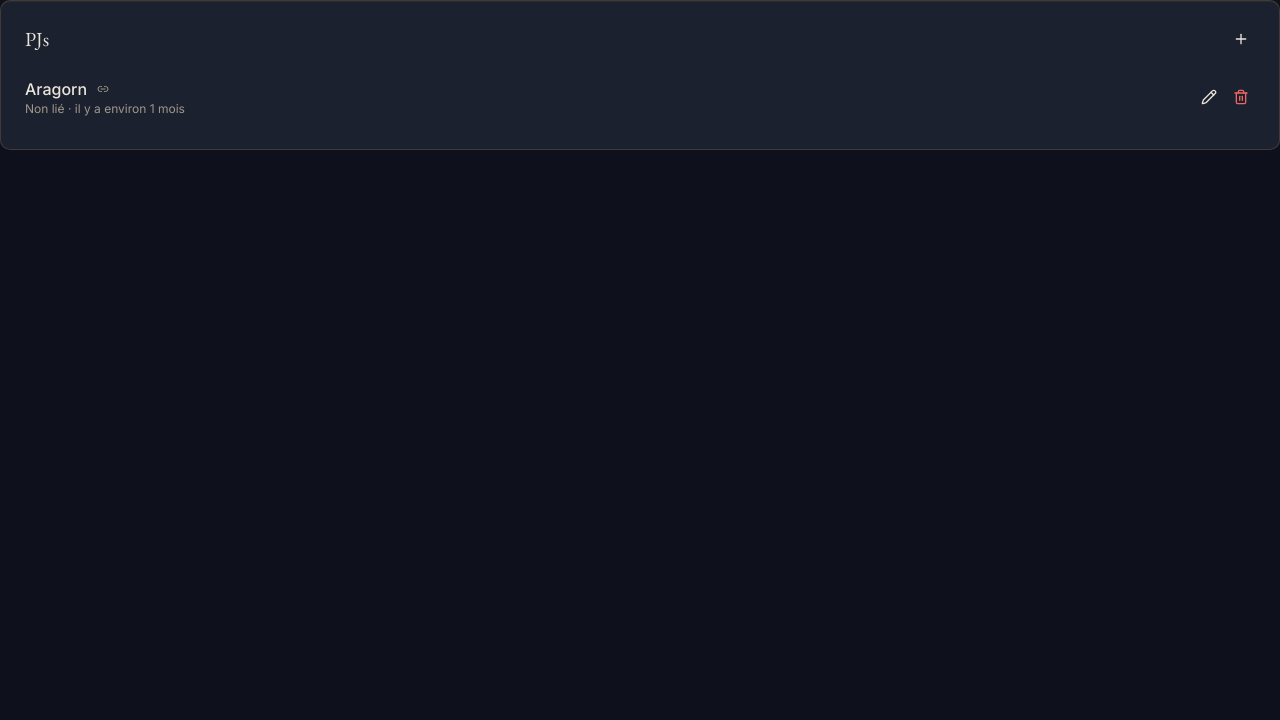
it: <CampaignPjsCard> › clicking the header Ajouter button opens the PjForm dialog
Expected: the text "Aragorn" is shown, left=25, top=77, right=87, bottom=101
Click the button named "Ajouter un PJ" at (1241, 39), box left=1227, top=25, right=1255, bottom=53
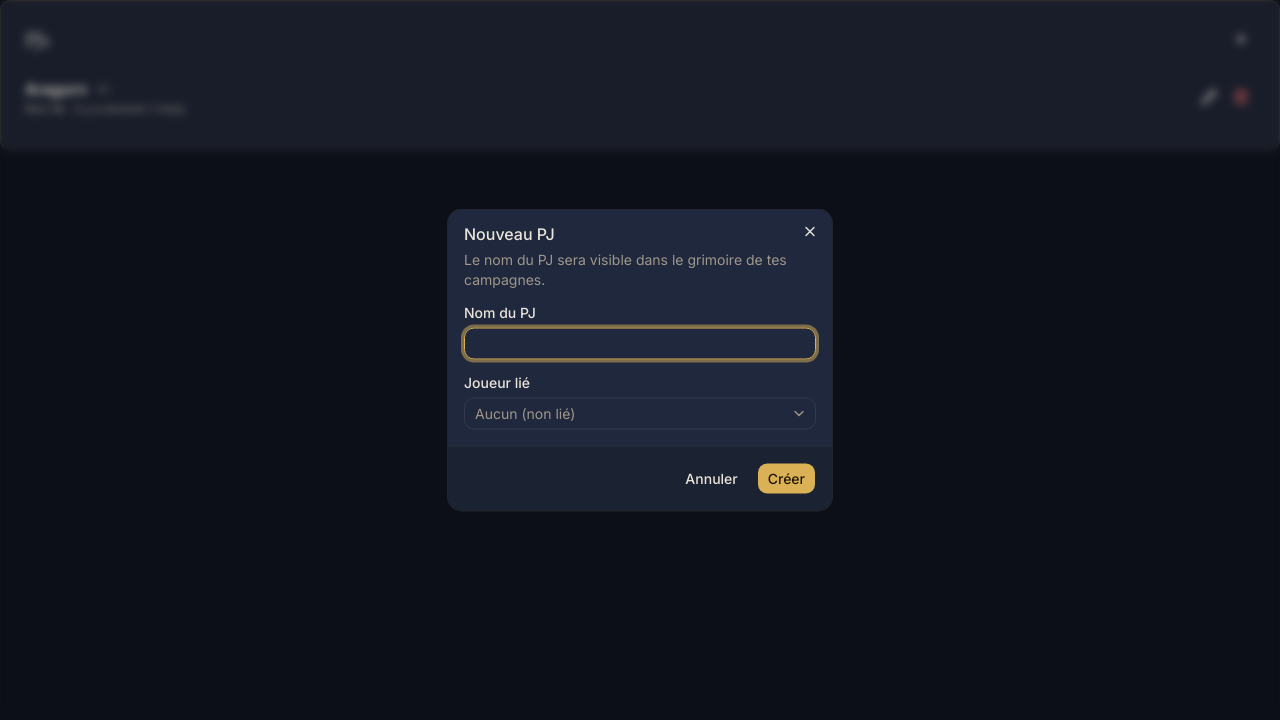
Expected: the heading "Nouveau PJ" is shown, left=464, top=224, right=555, bottom=244
